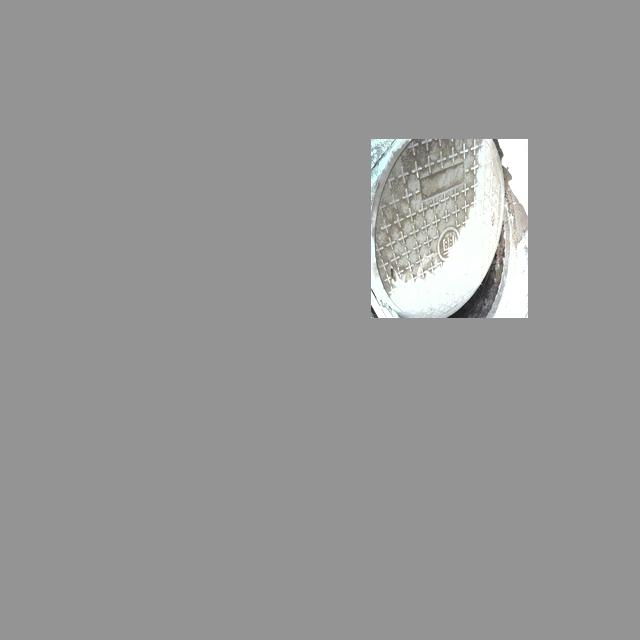uncovered: (374, 141, 519, 315)
